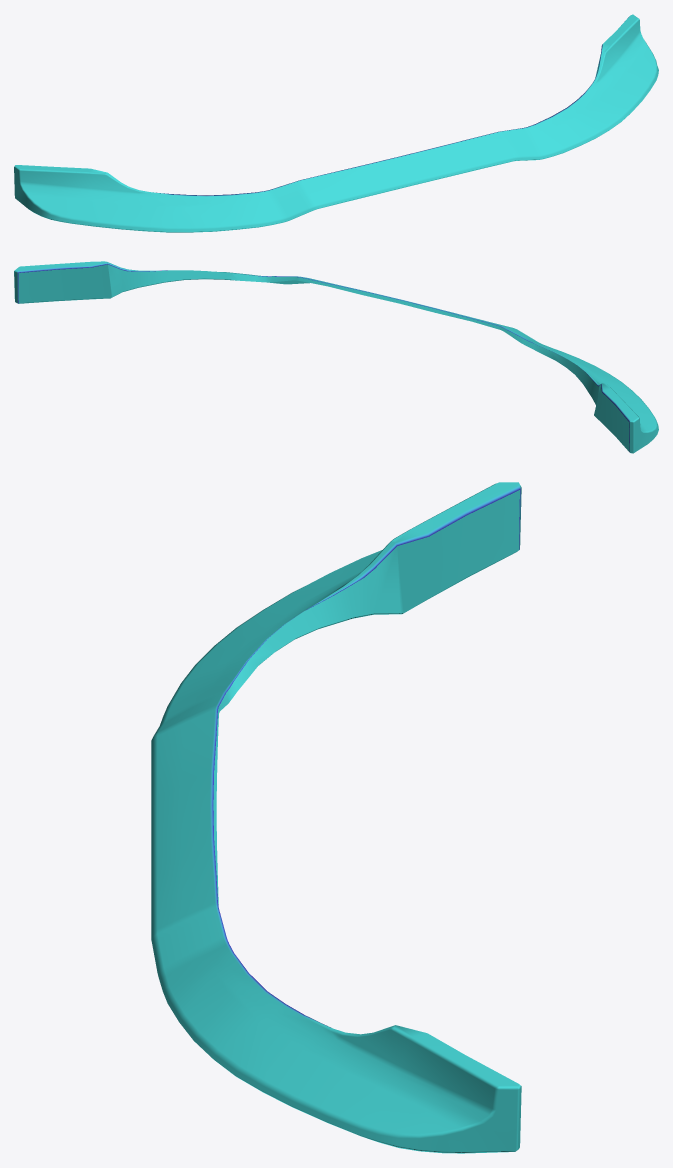
File: Car_Mini_CountrymanJCW_2017_Splitter_SetB_AltO.fbx
3 renders of one model, top to bottom at view 1: azimuth 30°, elevation 25°; view 2: azimuth 150°, elevation 25°; view 3: azimuth 270°, elevation 25°, orthographic. The views are drawn at different scales.
Parts seen in each view (by area): view 1: Splitter 6; view 2: Splitter 6; view 3: Splitter 6.
Boxes of the visible parts, x1,y1,x2,y2 form: Splitter 6: (14,14,658,232); Splitter 6: (14,261,658,453); Splitter 6: (151,482,521,1153).
Bounding box in the file's own units: 1.98 × 0.114 × 0.512.
